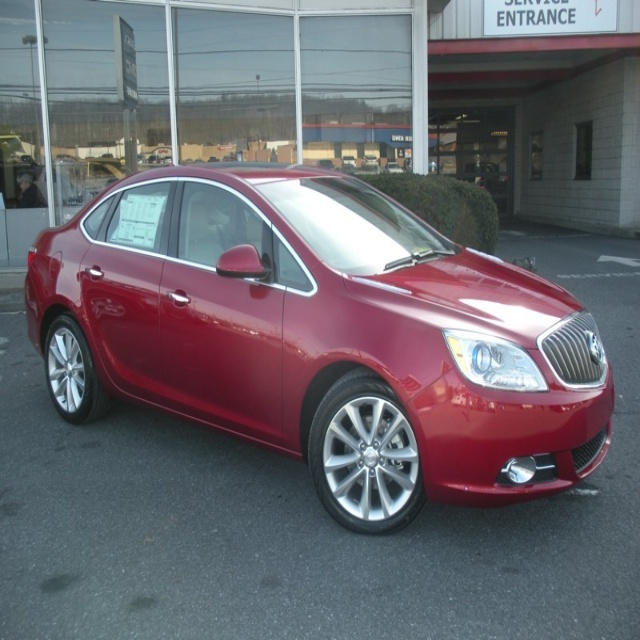Car: (25, 163, 615, 538)
